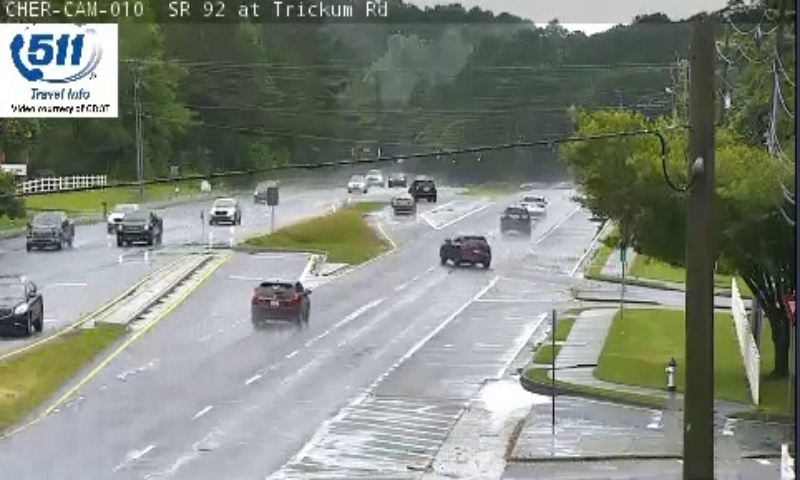car: (252, 280, 310, 324), (500, 205, 530, 232), (519, 193, 548, 216)
